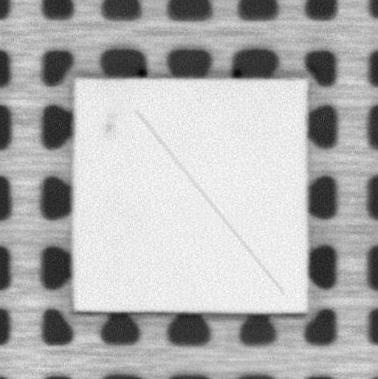DIE_CRACK: (133, 109, 287, 295)
